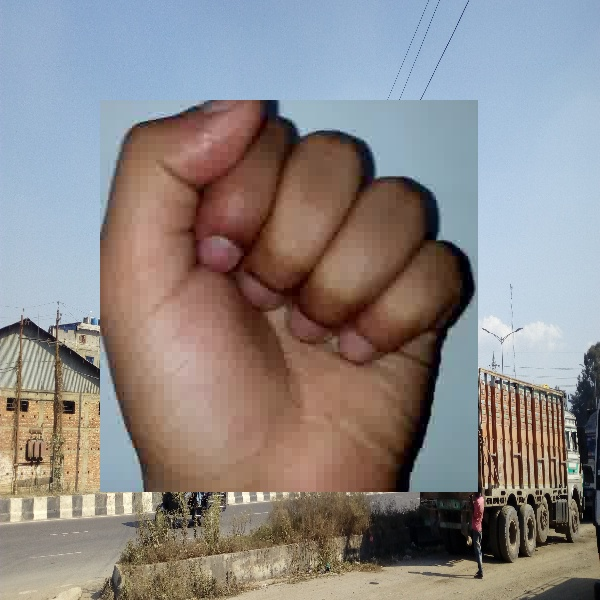A: (100, 100, 478, 492)
